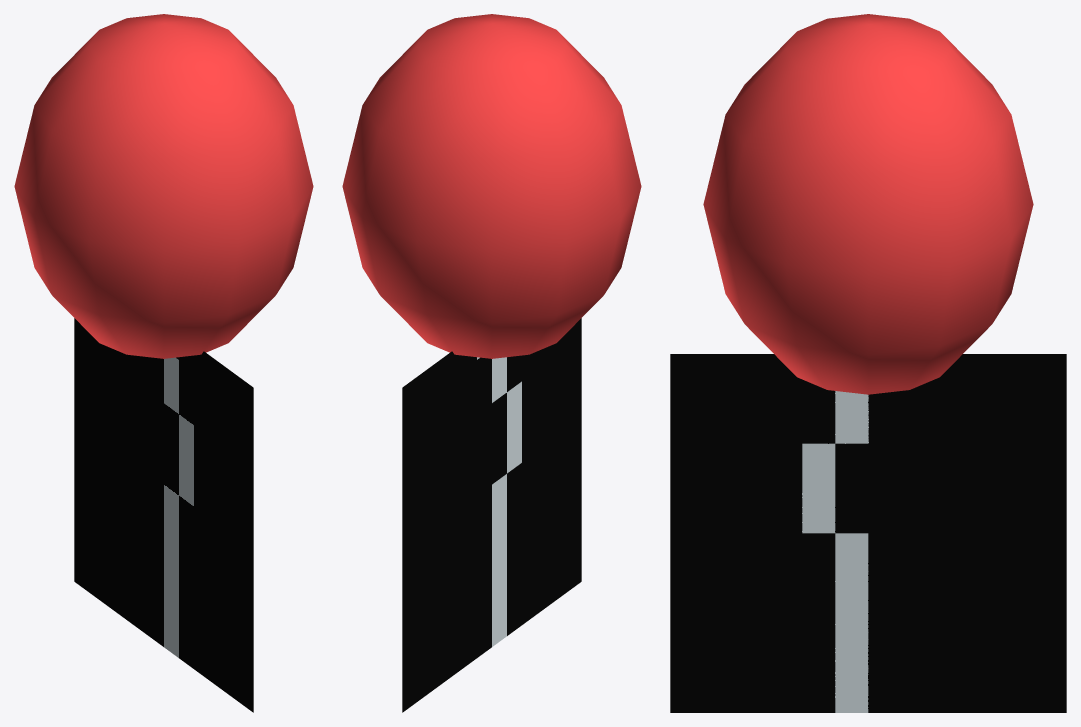
The model's file is balloon.obj.
3 views of the same model, side by side, from view 1: azimuth 30°, elevation 25°; view 2: azimuth 150°, elevation 25°; view 3: azimuth 270°, elevation 25° (orthographic). The views are drawn at different scales.
Parts seen in each view (by area): view 1: sphere, plane; view 2: sphere, plane; view 3: plane, sphere.
Boxes of the visible parts, <box> form: sphere: <box>14,14,313,358</box>; plane: <box>74,318,253,712</box>; sphere: <box>342,14,641,358</box>; plane: <box>402,318,581,712</box>; plane: <box>670,354,1066,712</box>; sphere: <box>703,14,1033,394</box>.
Bounding box in the file's own units: 0.625 × 1.44 × 0.75.
Materials: 2 (2 with a texture image).
